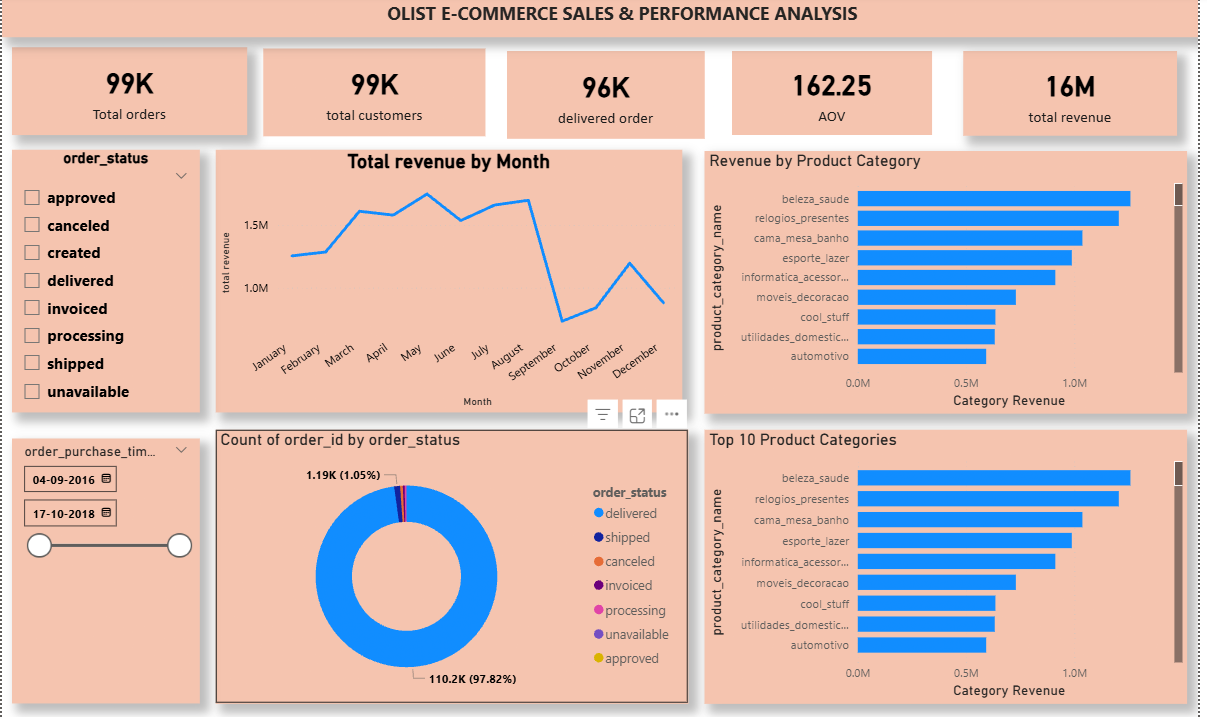

What the dashboard file says about the page in this screenshot:
{"tool":"powerbi","page":{"name":"Page 1","canvas":[1254,758],"ordinal":0},"visuals":[{"type":"card","fields":{"Values":["olist_analytics order_items_import_python.total orders"]},"box":[10.5,53.7,246.2,91.7],"z":0},{"type":"card","fields":{"Values":["olist_analytics order_items_import_python.total customers"]},"box":[273.7,55,233.1,91.7],"z":1000},{"type":"card","fields":{"Values":["olist_analytics order_items_import_python.delivered order"]},"box":[529.1,57.6,206.9,91.7],"z":2000},{"type":"card","fields":{"Values":["olist_analytics order_items_import_python.total revenue"]},"box":[1007.1,57.6,223.9,89.1],"z":3000},{"type":"card","fields":{"Values":["olist_analytics order_items_import_python.AOV"]},"box":[764.8,57.6,209.5,87.7],"z":4000},{"type":"lineChart","title":"Total revenue by Month","fields":{"Y":["olist_analytics order_items_import_python.total revenue"],"Category":["olist_analytics orders_import_python.order_purchase_timestamp.Variation.Date Hierarchy.Month"]},"box":[223.9,161.1,488.5,275],"z":5000},{"type":"clusteredBarChart","title":"Revenue by Product Category","fields":{"Category":["olist_products_dataset.product_category_name"],"Y":["olist_analytics order_items_import_python.Category Revenue"]},"box":[736,162.4,505.5,275],"z":6000},{"type":"donutChart","fields":{"Y":["CountNonNull(olist_analytics order_items_import_python.order_id)"],"Category":["olist_analytics orders_import_python.order_status"]},"box":[223.9,454.4,495,286.8],"z":7000},{"type":"clusteredBarChart","title":"Top 10 Product Categories","fields":{"Category":["olist_products_dataset.product_category_name"],"Y":["olist_analytics order_items_import_python.Category Revenue"]},"box":[736,454.4,505.5,286.8],"z":8000},{"type":"textbox","box":[0,0,1300,43.5],"z":9000},{"type":"slicer","fields":{"Values":["olist_analytics orders_import_python.order_purchase_timestamp"]},"box":[10.5,463.6,196.4,277.6],"z":10000},{"type":"slicer","title":"order_status","fields":{"Values":["olist_analytics orders_import_python.order_status"]},"box":[10.5,161.1,196.4,275],"z":11000}]}

Visuals, with their boxes in screenshot pixels (x1, y1, x2, y2), scaled from the page's 1254x758 canvas onto the 1207x717 screenshot:
card - olist_analytics order_items_import_python.total orders: bbox=(10, 51, 247, 138)
card - olist_analytics order_items_import_python.total customers: bbox=(263, 52, 488, 139)
card - olist_analytics order_items_import_python.delivered order: bbox=(509, 54, 708, 141)
card - olist_analytics order_items_import_python.total revenue: bbox=(969, 54, 1185, 139)
card - olist_analytics order_items_import_python.AOV: bbox=(736, 54, 938, 137)
"Total revenue by Month" lineChart: bbox=(216, 152, 686, 413)
"Revenue by Product Category" clusteredBarChart: bbox=(708, 154, 1195, 414)
donutChart - CountNonNull(olist_analytics order_items_import_python.order_id) x olist_analytics orders_import_python.order_status: bbox=(216, 430, 692, 701)
"Top 10 Product Categories" clusteredBarChart: bbox=(708, 430, 1195, 701)
textbox: bbox=(0, 0, 1206, 41)
slicer - olist_analytics orders_import_python.order_purchase_timestamp: bbox=(10, 439, 199, 701)
"order_status" slicer: bbox=(10, 152, 199, 413)
